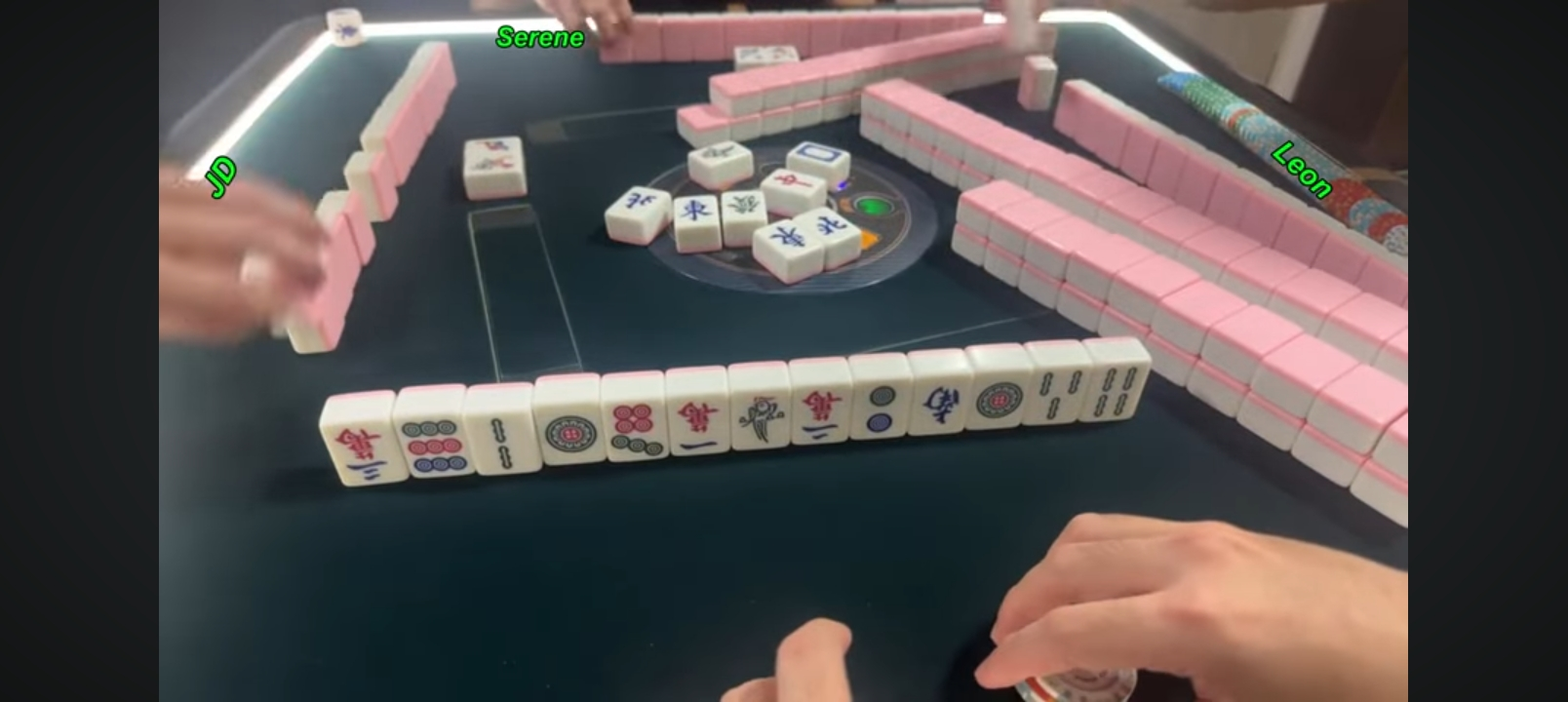TILE: (324, 419, 401, 487), (393, 418, 477, 474), (601, 400, 671, 458), (533, 407, 604, 462), (469, 412, 534, 472), (665, 398, 730, 455), (970, 373, 1037, 427), (908, 378, 969, 436), (730, 391, 790, 449), (1089, 363, 1150, 418), (851, 381, 908, 438), (1033, 367, 1090, 423), (792, 389, 851, 441)
